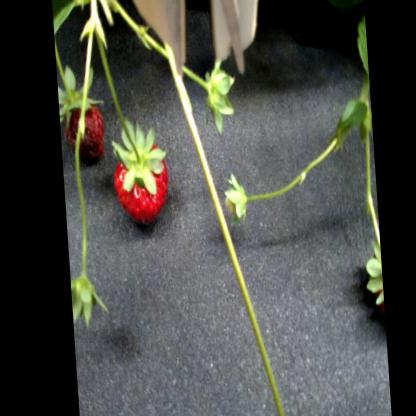ripe: (109, 131, 172, 226), (64, 102, 108, 172)
